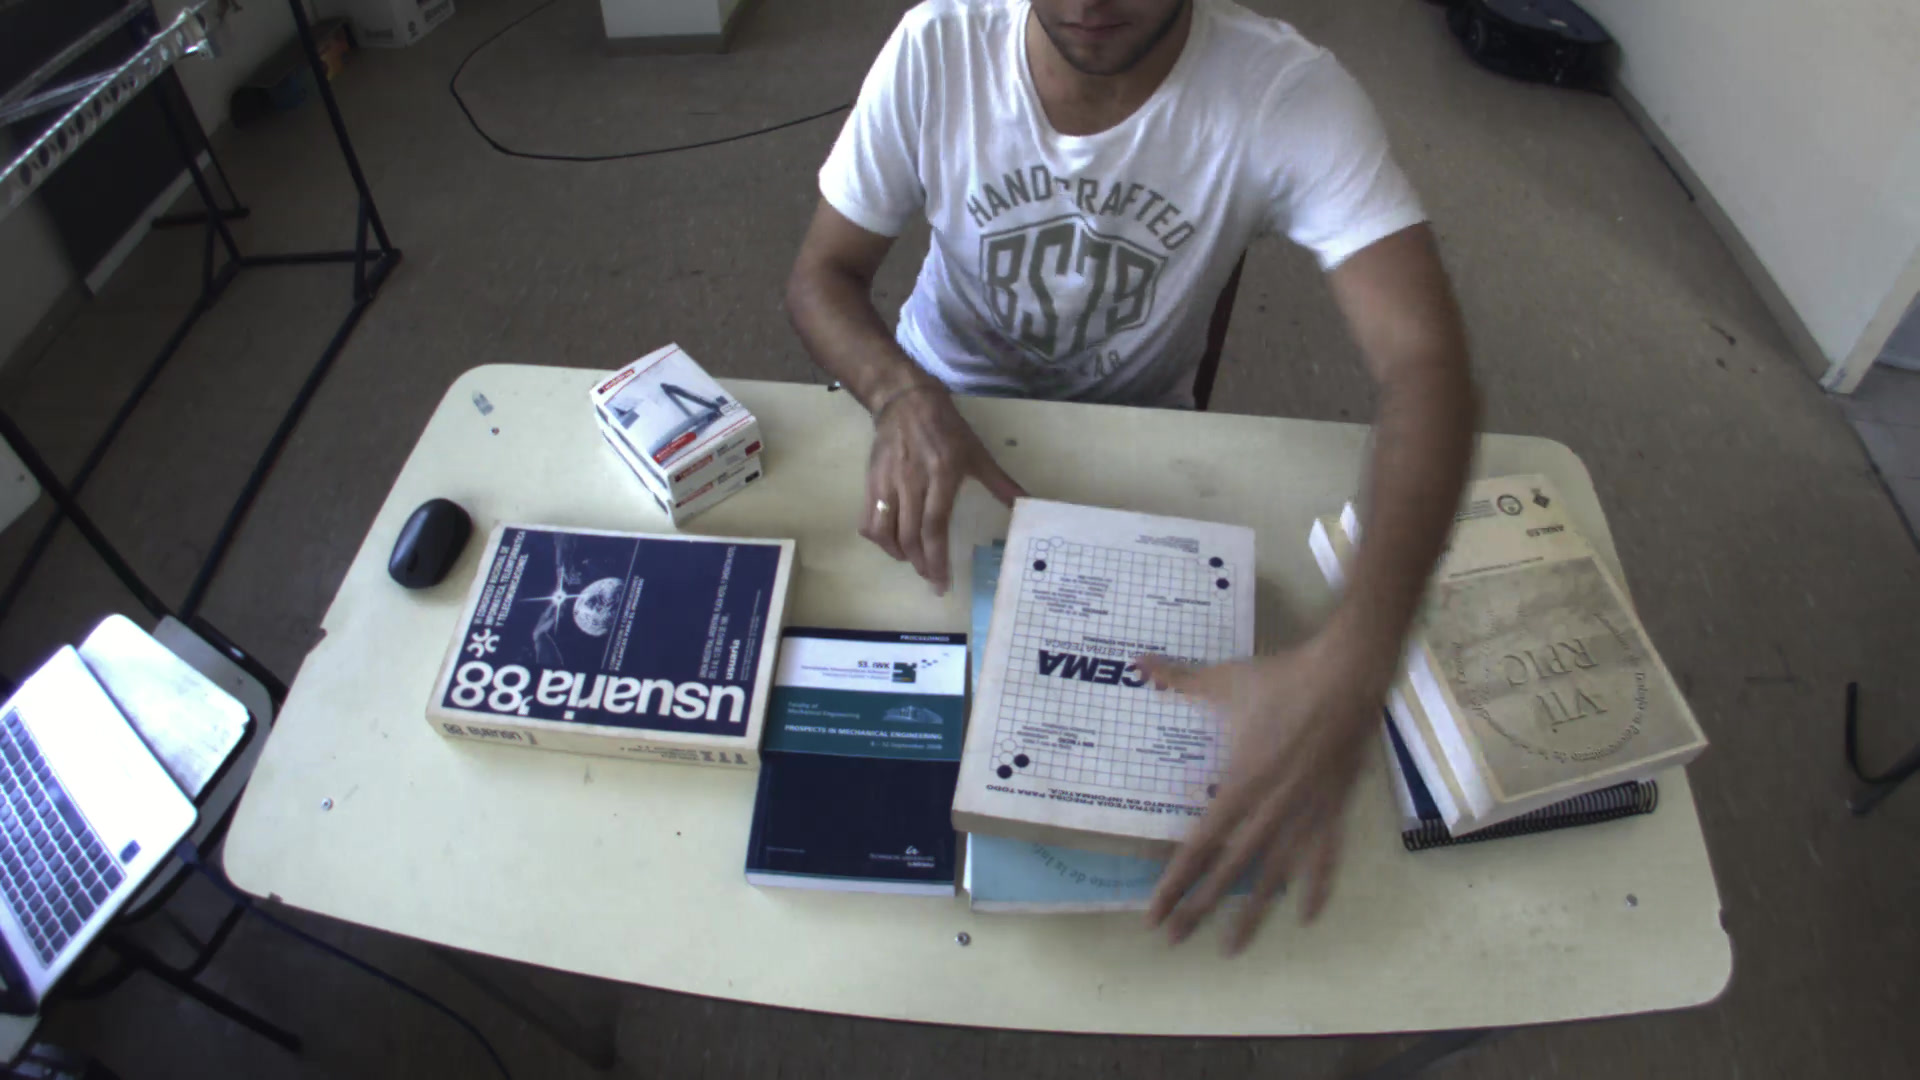hand: (1129, 732, 1370, 968), (840, 375, 1029, 593)
